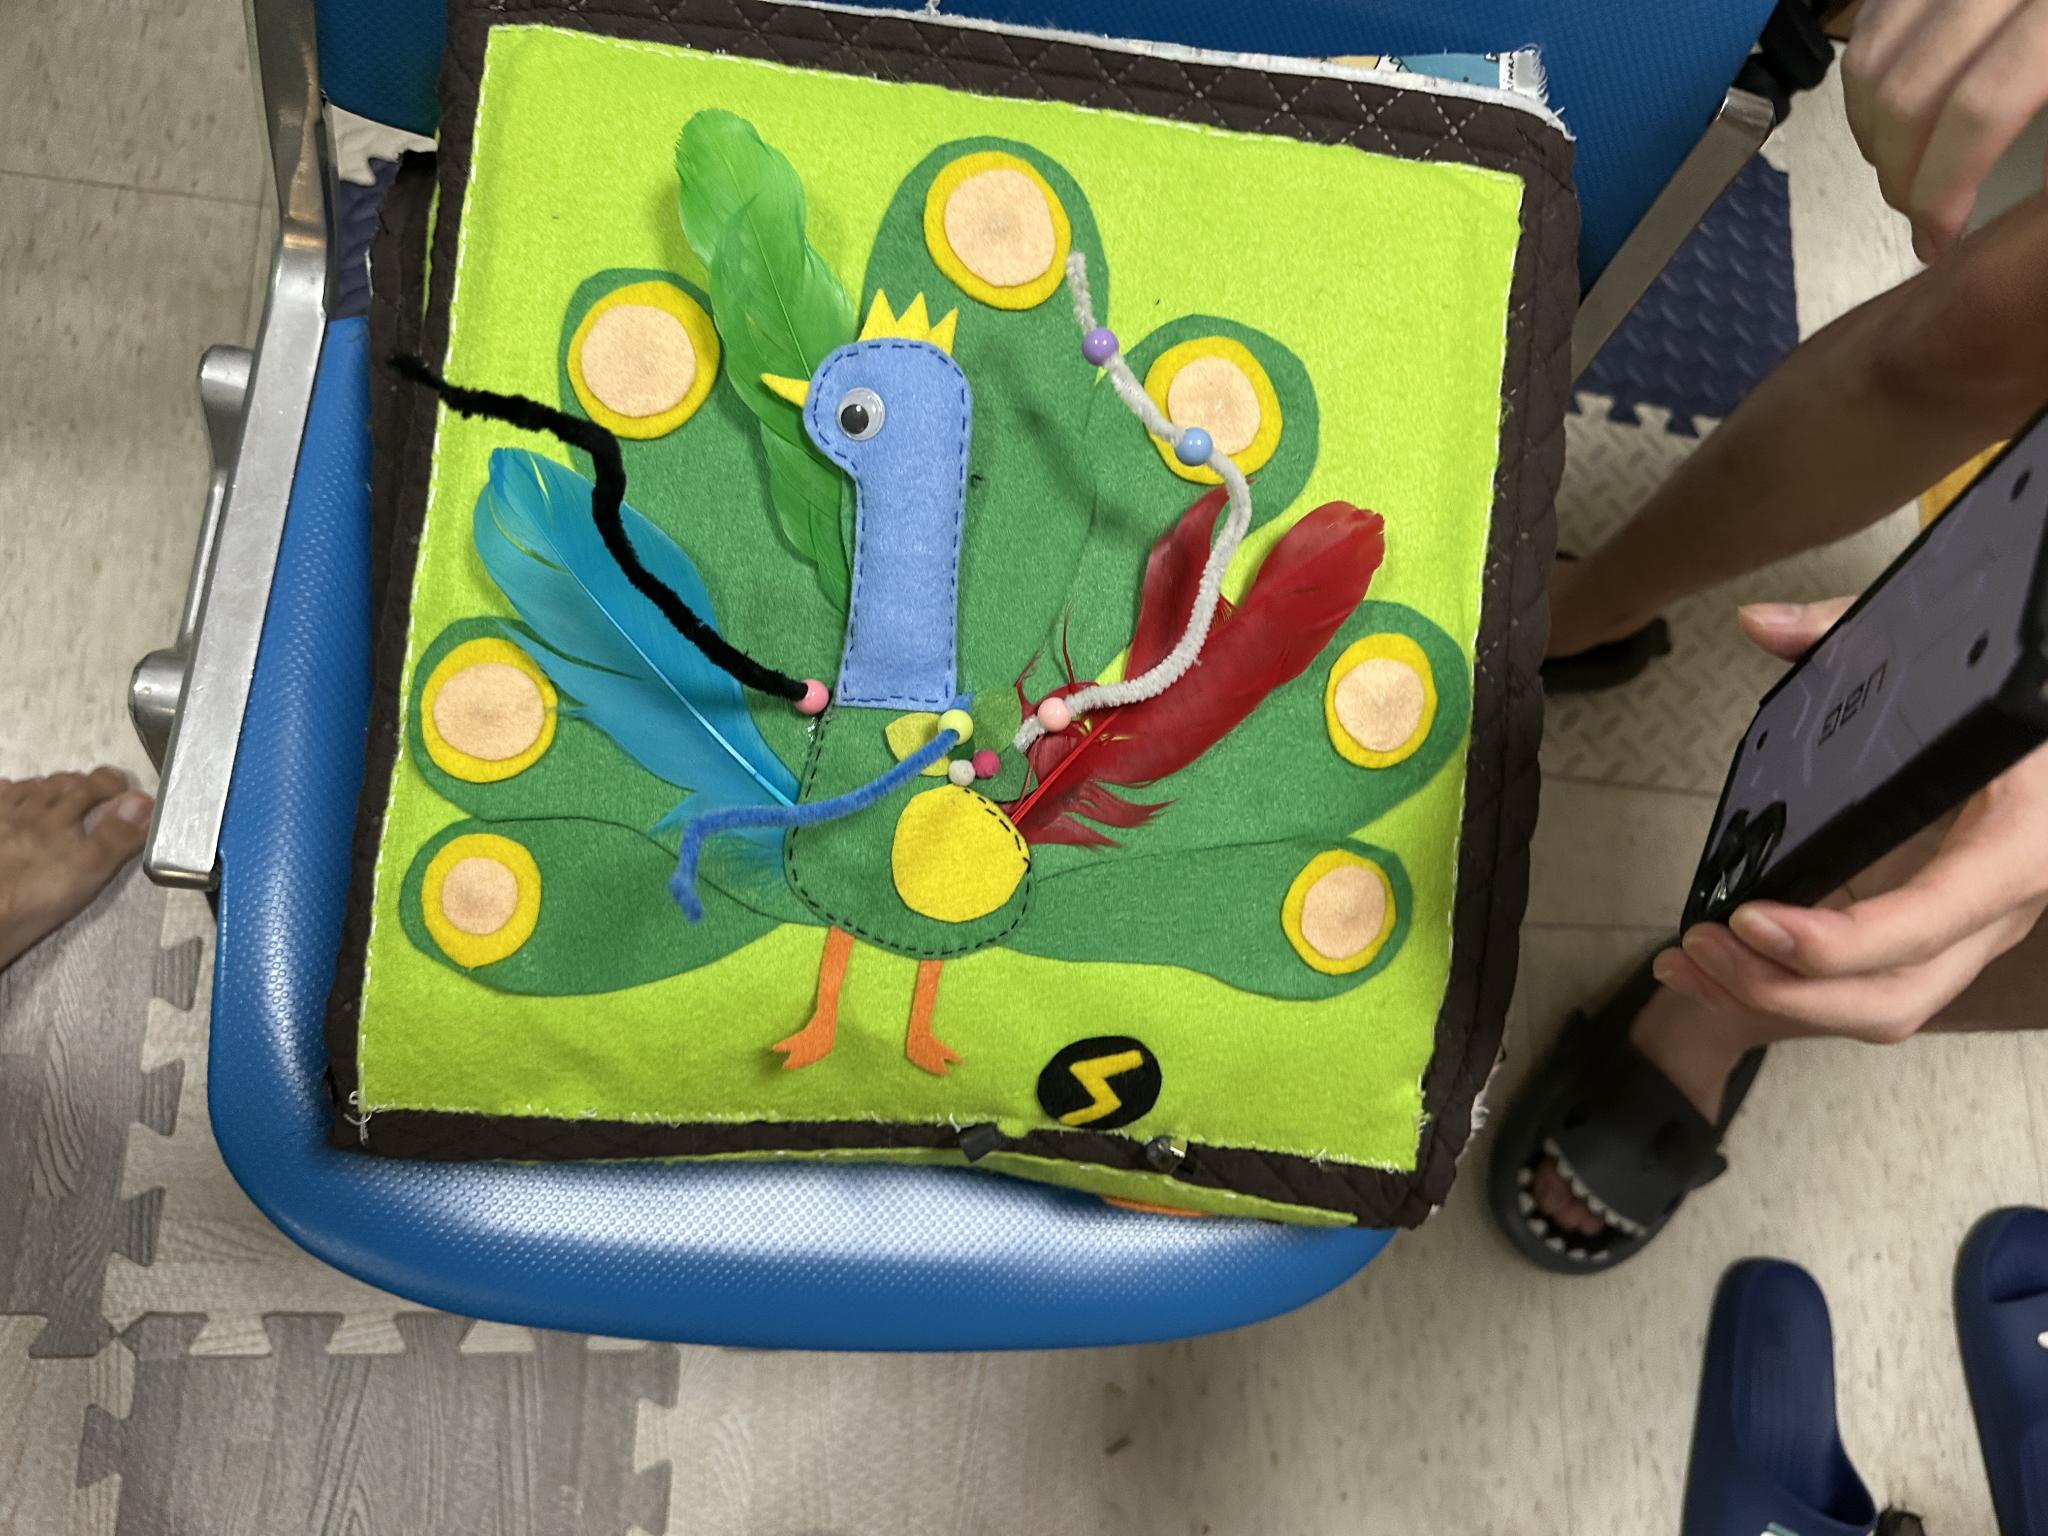bead: (1076, 321, 1142, 368), (1026, 692, 1084, 744), (937, 700, 987, 752), (798, 665, 839, 726), (1177, 418, 1211, 466)
